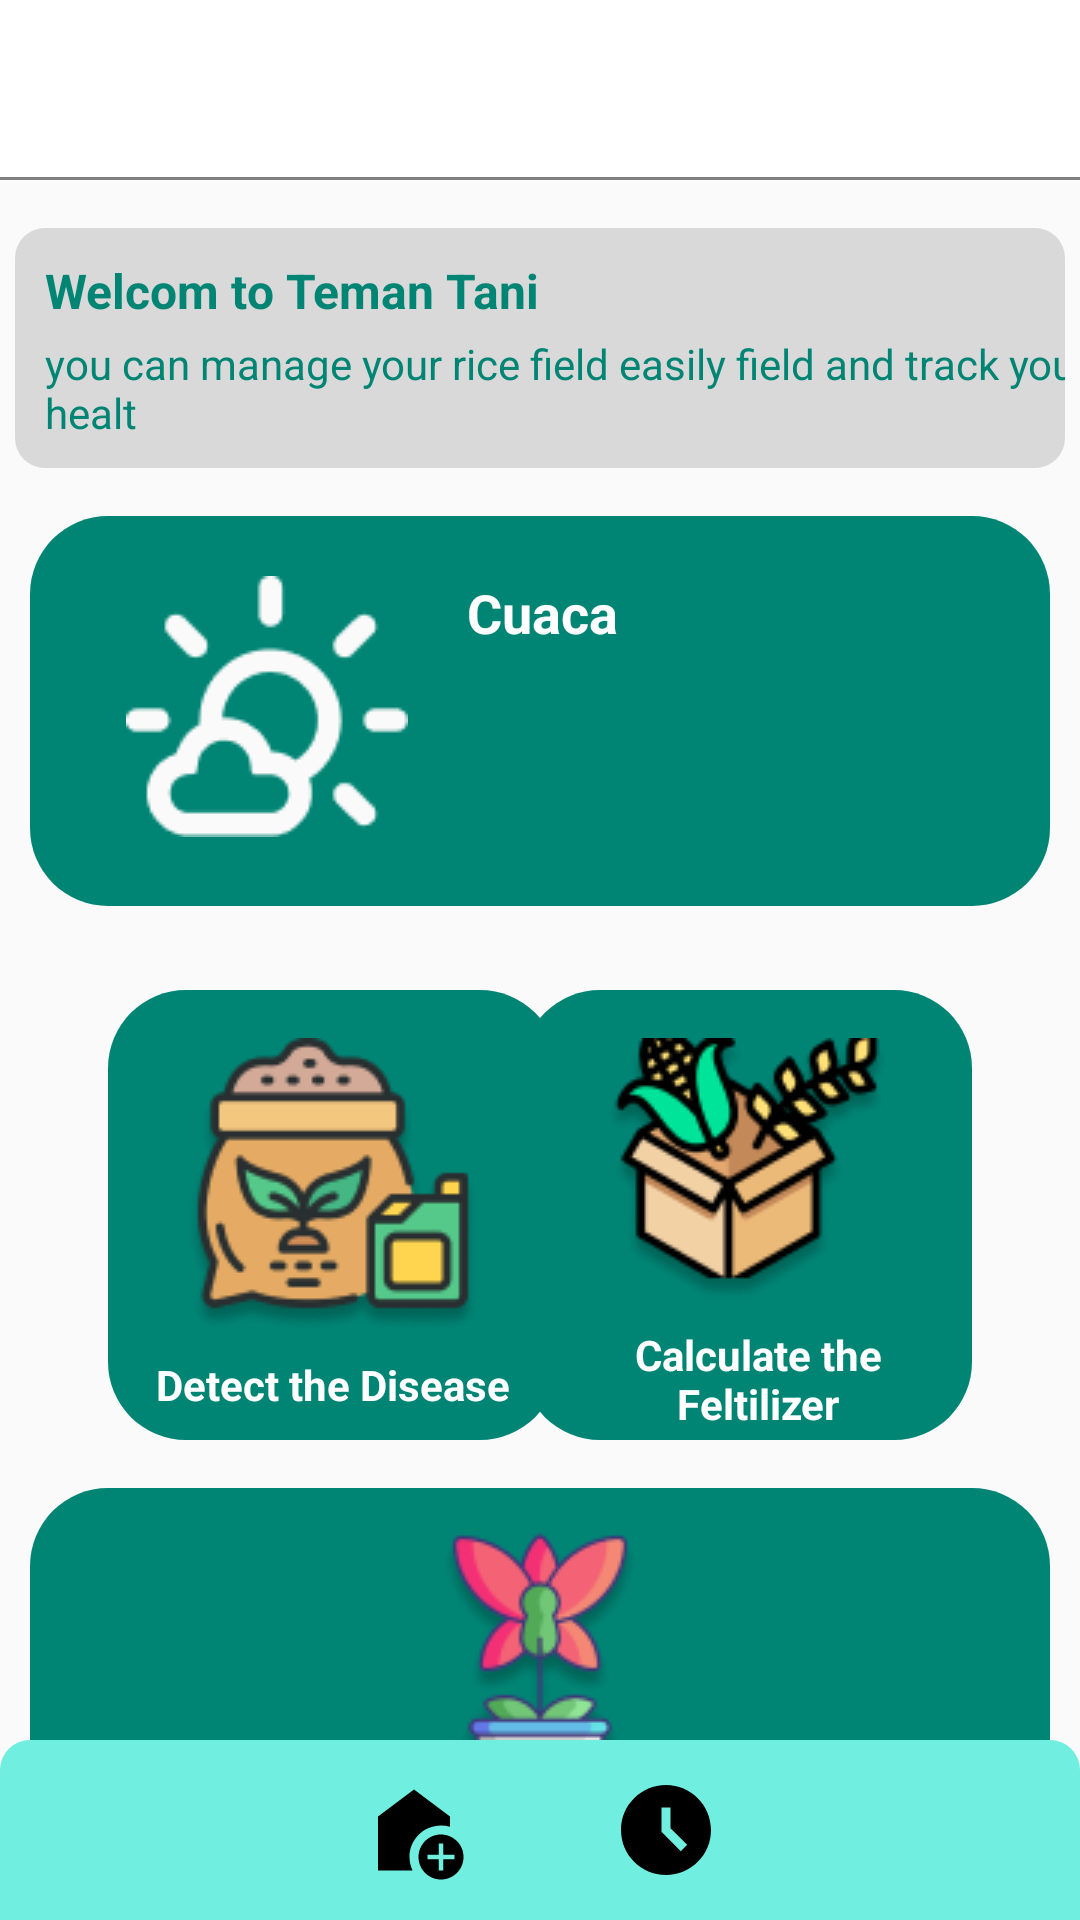

Where icons sit on this 1080 × 1920 app screen, as [x1,y1,x2,y2]:
history: [621,1785,711,1875]
home: [378,1789,464,1880]
